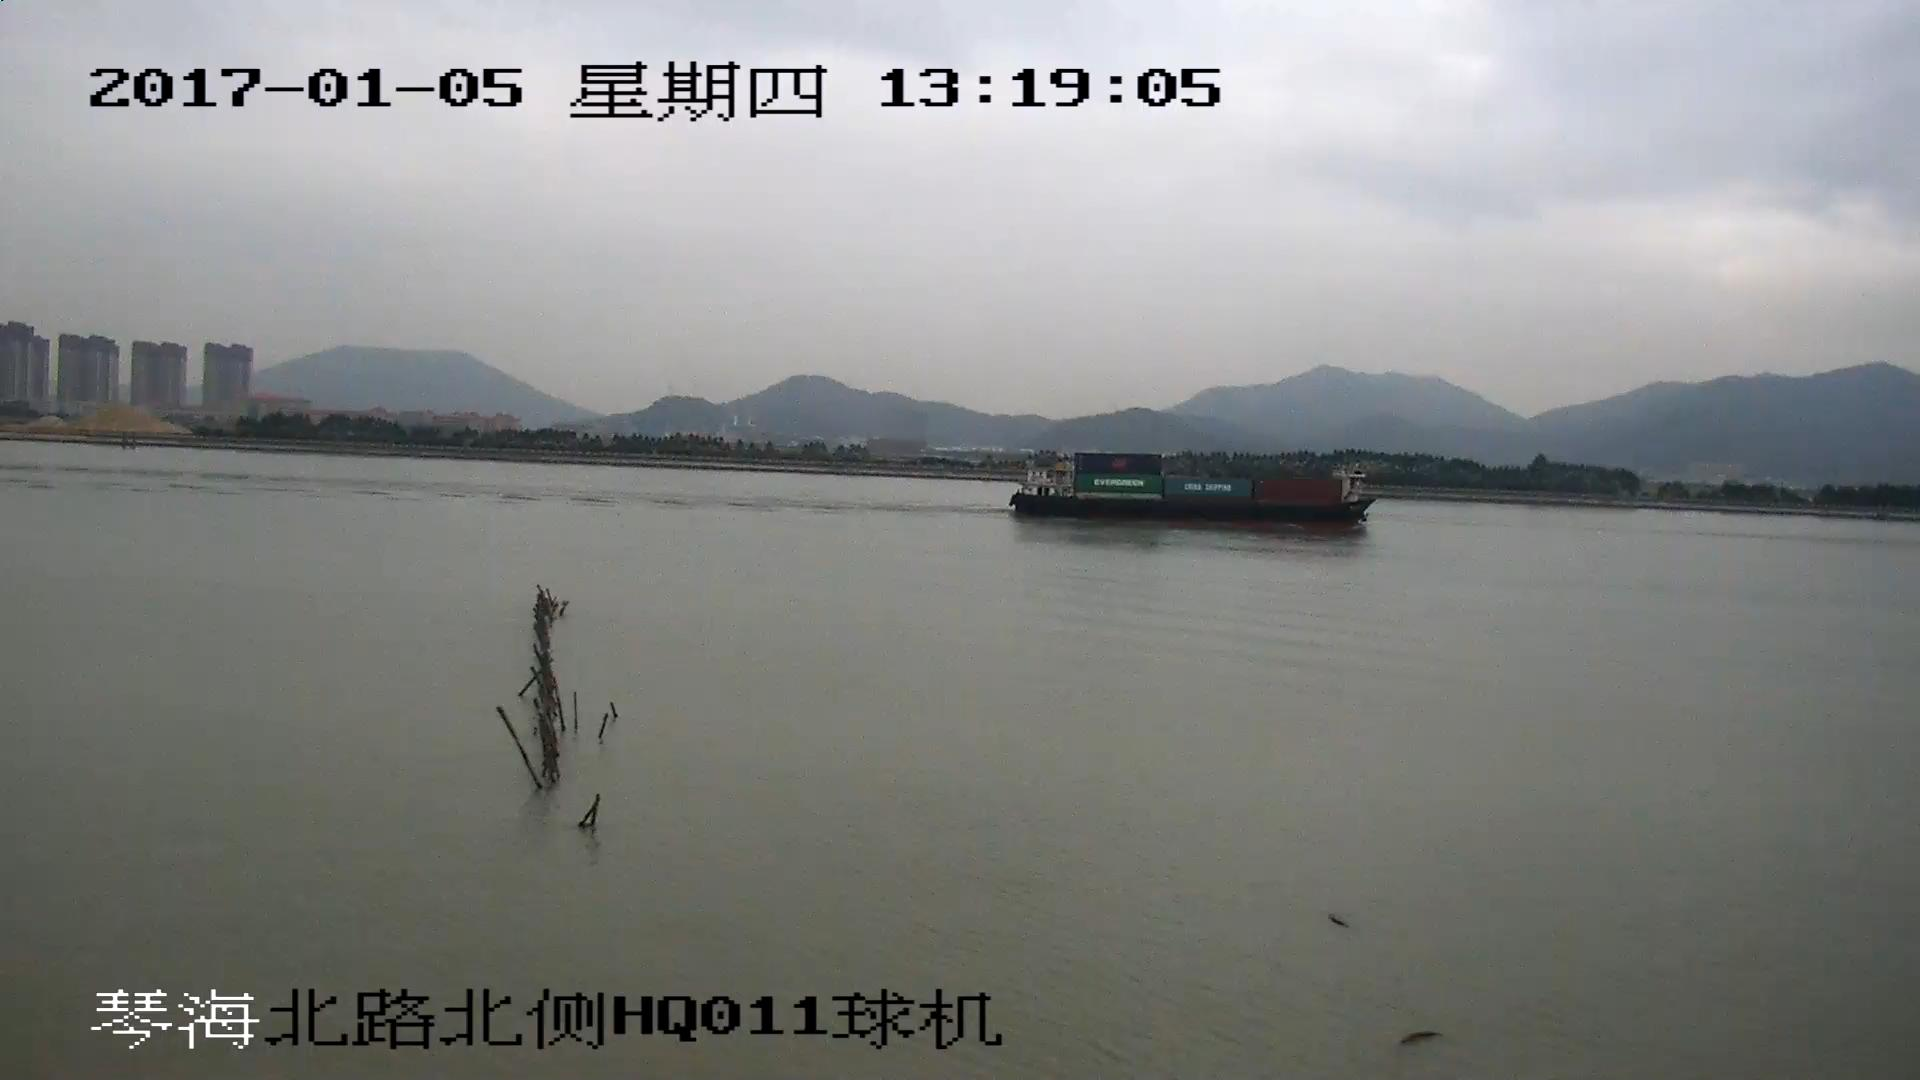container ship: (1012, 450, 1370, 524)
